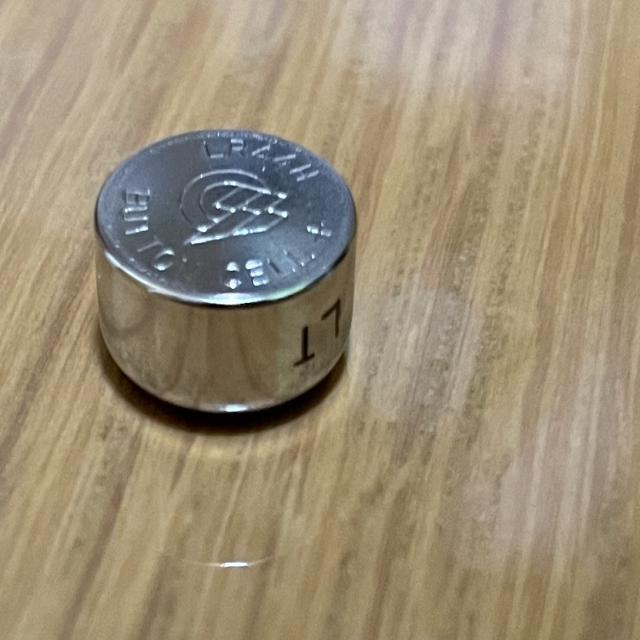COIN: (96, 130, 357, 424)
